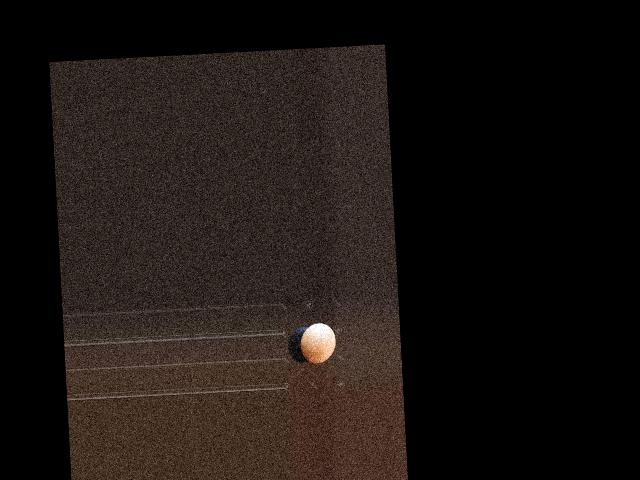egg: (298, 322, 336, 364)
